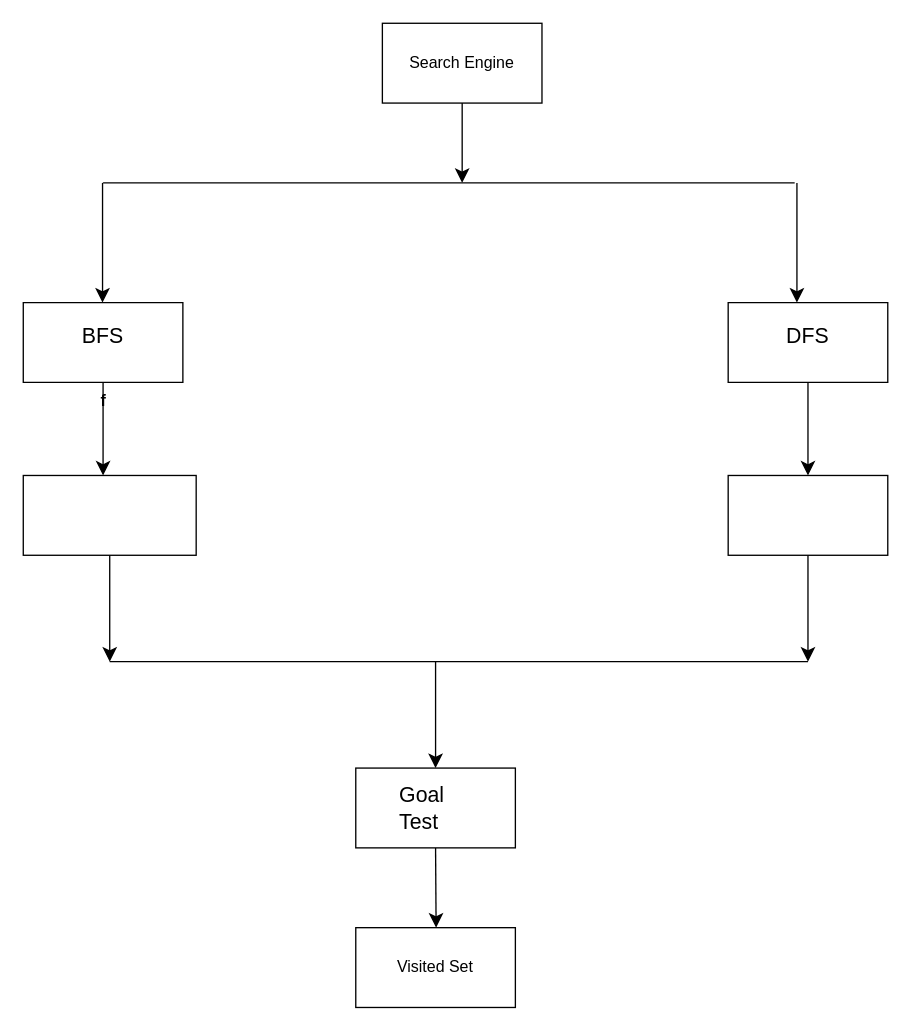
The diagram is 911 pixels wide and 1031 high, and some of its shapes have lost their labels. Here are the shapes that lost their labels. From the top down, the centre of each, then its label:
the point at 109,514: Queue FIFO
the point at 807,514: Stack LIFO
